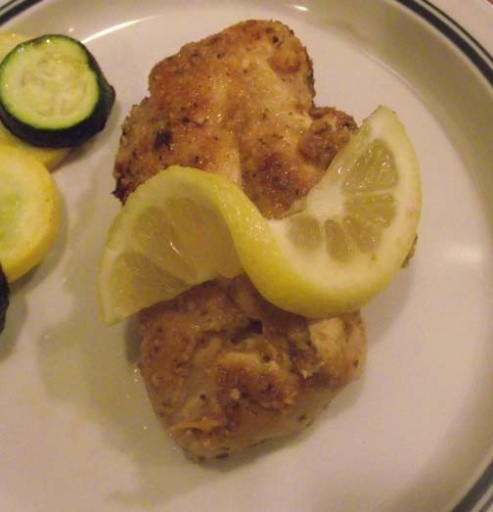background: (72, 14, 325, 368), (0, 25, 89, 267)
